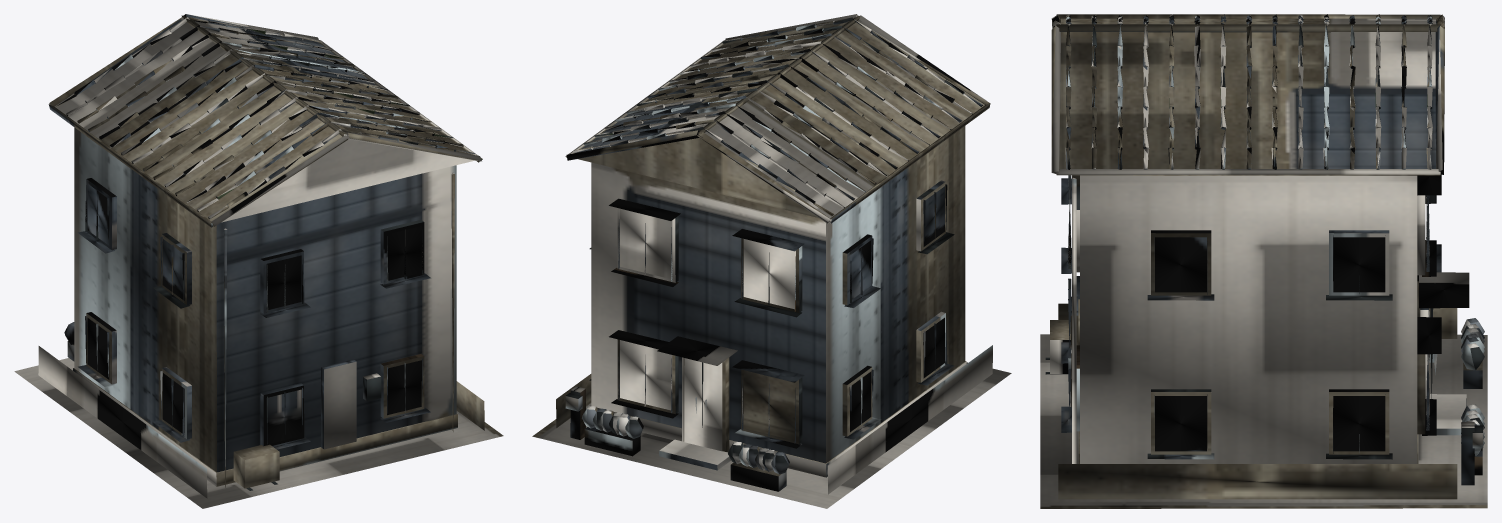
File: residential_001.lod1.obj
3 renders of one model, left to right at view 1: azimuth 30°, elevation 25°; view 2: azimuth 150°, elevation 25°; view 3: azimuth 270°, elevation 25°, orthographic. The views are drawn at different scales.
Visible parts, largest first — view 1: residential_001; view 2: residential_001; view 3: residential_001.
Boxes of the visible parts, x1,y1,x2,y2 form: residential_001: (14, 14, 503, 508); residential_001: (532, 14, 1011, 508); residential_001: (1040, 14, 1487, 508).
Bounding box in the file's own units: 6.82 × 7.25 × 7.39.
1 material, 1 textured.
